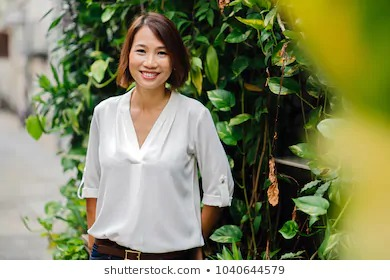S_blouse: (65, 84, 240, 247)
